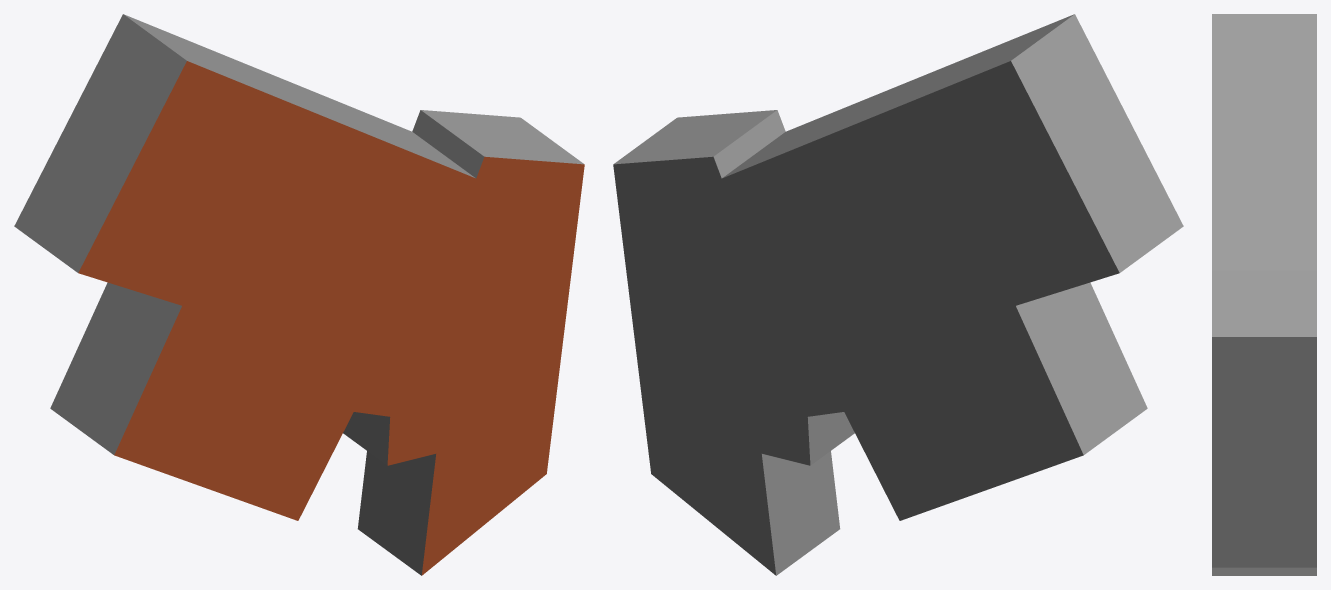
File: construction_0861_assumed_A_Casa_h6m.obj
3 renders of one model, left to right at view 1: azimuth 30°, elevation 25°; view 2: azimuth 150°, elevation 25°; view 3: azimuth 270°, elevation 25°, orthographic. The views are drawn at different scales.
Parts seen in each view (by area): view 1: construction_0861_assumed_A_Casa; view 2: construction_0861_assumed_A_Casa; view 3: construction_0861_assumed_A_Casa.
Boxes of the visible parts, bbox=[...] form: construction_0861_assumed_A_Casa: bbox=[14, 14, 584, 575]; construction_0861_assumed_A_Casa: bbox=[613, 14, 1183, 575]; construction_0861_assumed_A_Casa: bbox=[1212, 14, 1316, 575].
Size of the model in its own units: 27.42 by 29.6 by 6.
